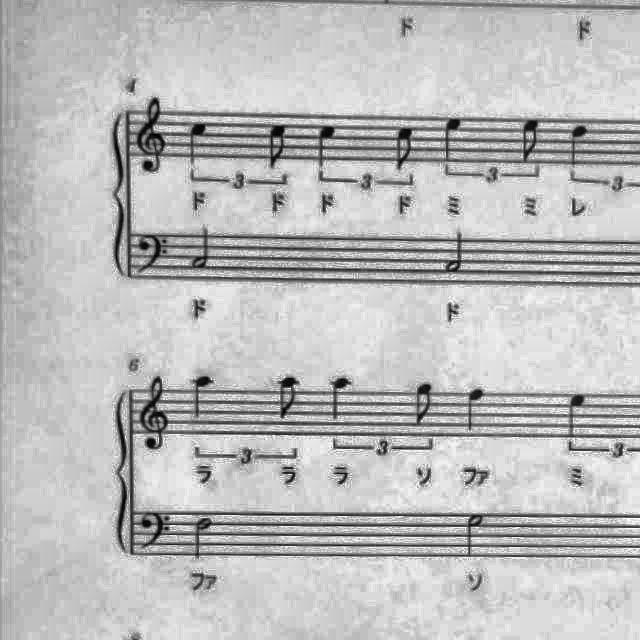Bass-clef: (132, 230, 172, 282), (134, 506, 176, 554)
Eighth-note: (269, 369, 305, 423), (264, 118, 296, 174), (515, 114, 549, 166), (388, 121, 420, 175), (409, 380, 439, 430)
Half-note: (189, 510, 219, 562), (441, 226, 471, 278), (188, 223, 218, 275), (459, 509, 488, 561)
Quarter-note: (322, 371, 358, 425), (186, 368, 220, 424), (436, 111, 469, 167), (310, 118, 342, 174), (562, 389, 592, 446), (183, 116, 213, 172), (461, 381, 491, 435), (563, 118, 593, 172)
Treble-clef: (134, 372, 176, 454), (132, 92, 172, 176)
